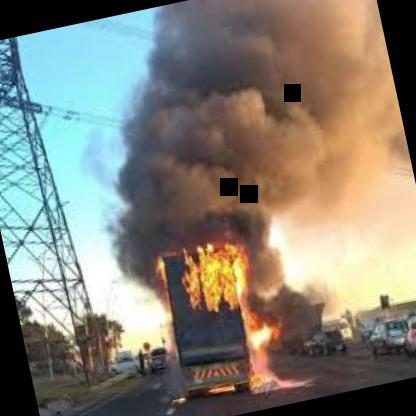fire: (147, 20, 346, 195), (150, 194, 278, 402)
